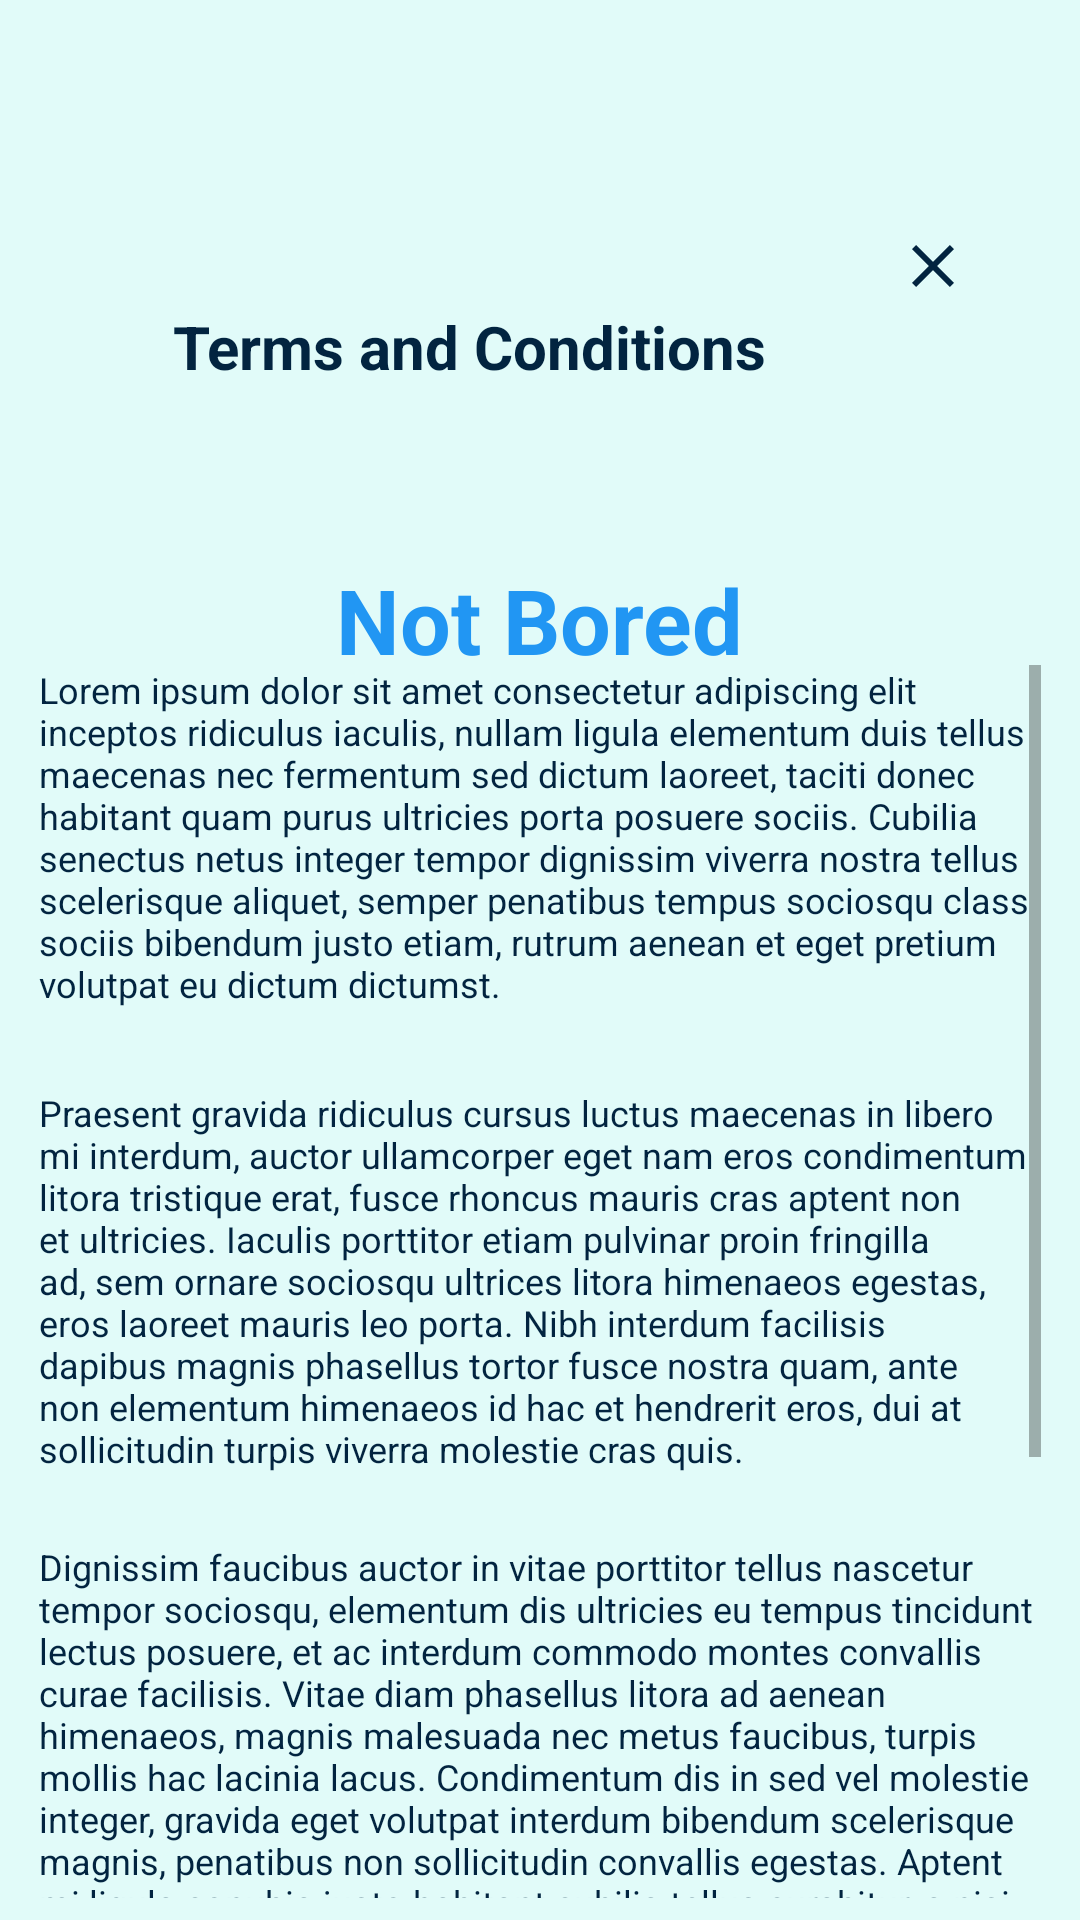

Icon bounding boxes for this 1080 x 1920 phone screenshot, format BBox(x1, y1, x2, y2):
Close: BBox(912, 245, 954, 287)
